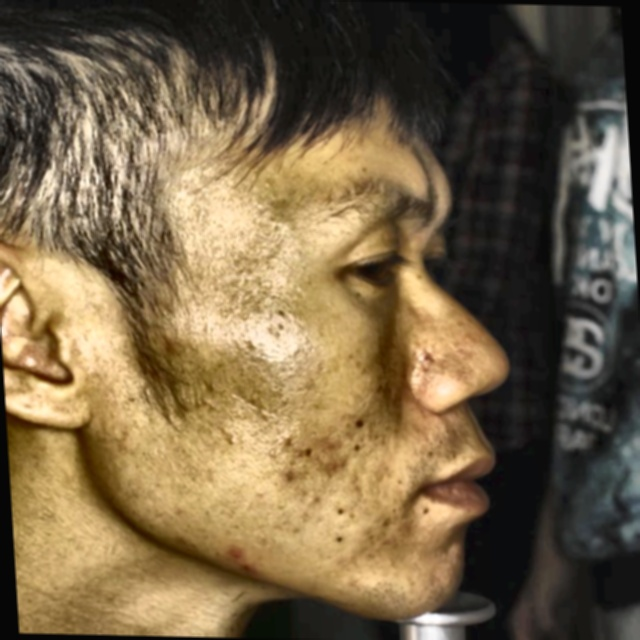comedone: (314, 453, 352, 483), (220, 542, 250, 567), (314, 432, 344, 457)
